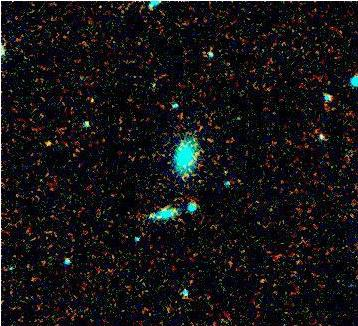star: (33, 127, 63, 157)
